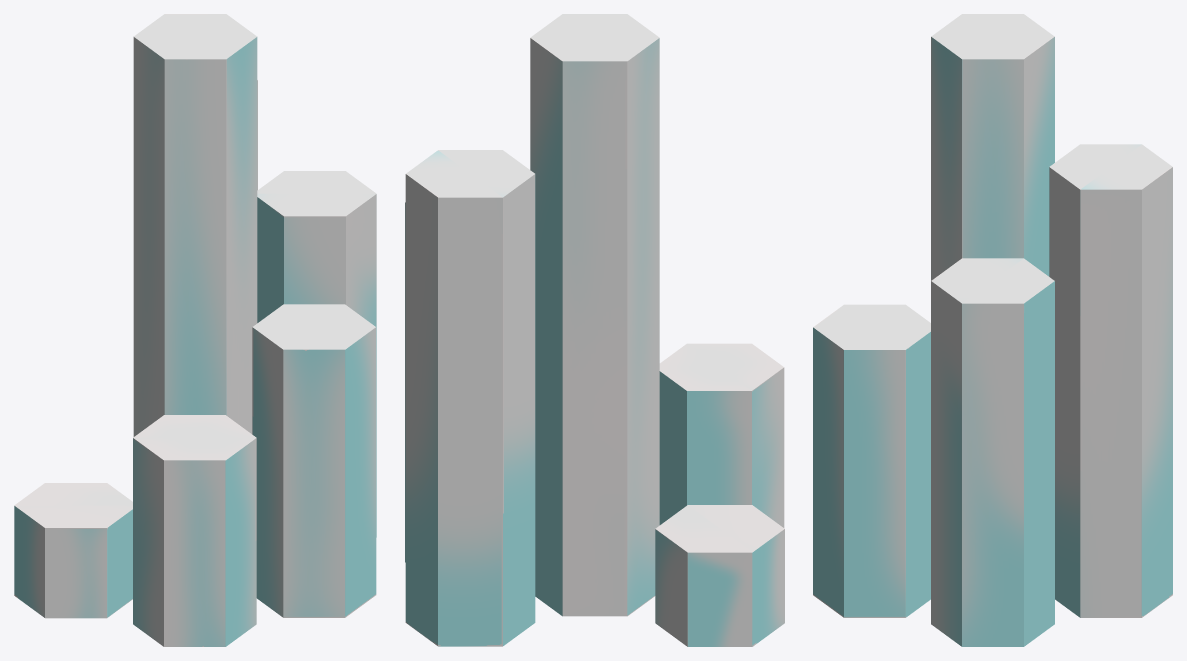
File: escadas-gelo.fbx
3 views of the same model, side by side, from view 1: azimuth 30°, elevation 25°; view 2: azimuth 150°, elevation 25°; view 3: azimuth 270°, elevation 25° (orthographic). The views are drawn at different scales.
Visible parts, largest first — view 1: escadas-gelo; view 2: escadas-gelo; view 3: escadas-gelo.
Part boxes in pixels (bbox=[...]): escadas-gelo: bbox=[14, 14, 376, 646]; escadas-gelo: bbox=[405, 14, 784, 646]; escadas-gelo: bbox=[813, 14, 1172, 646].
Bounding box in the file's own units: 194 × 297 × 183.
